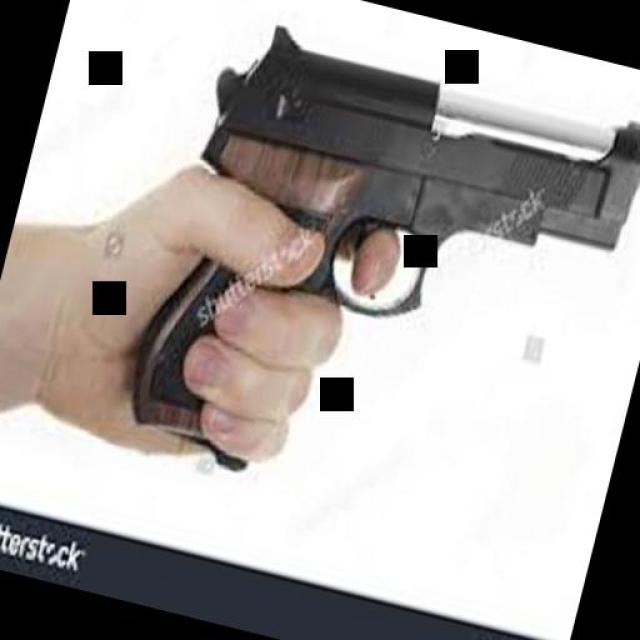gun: (122, 0, 640, 538)
